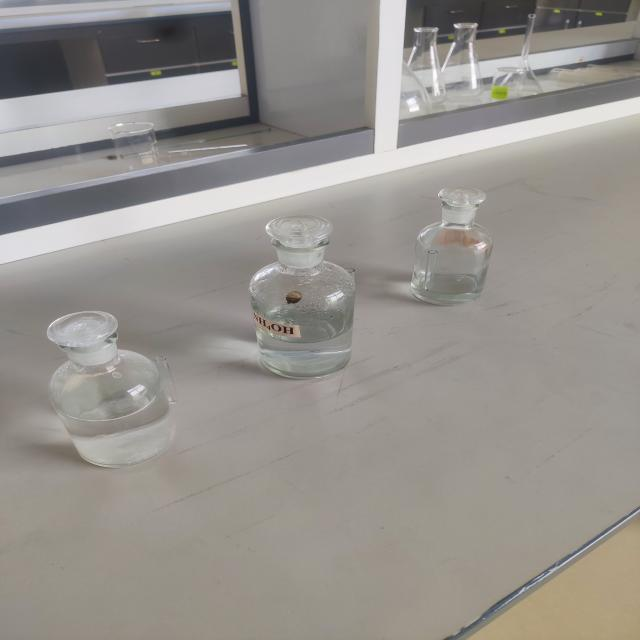Reagent_Bottle: (17, 283, 195, 486), (225, 200, 378, 392), (399, 163, 509, 321)
